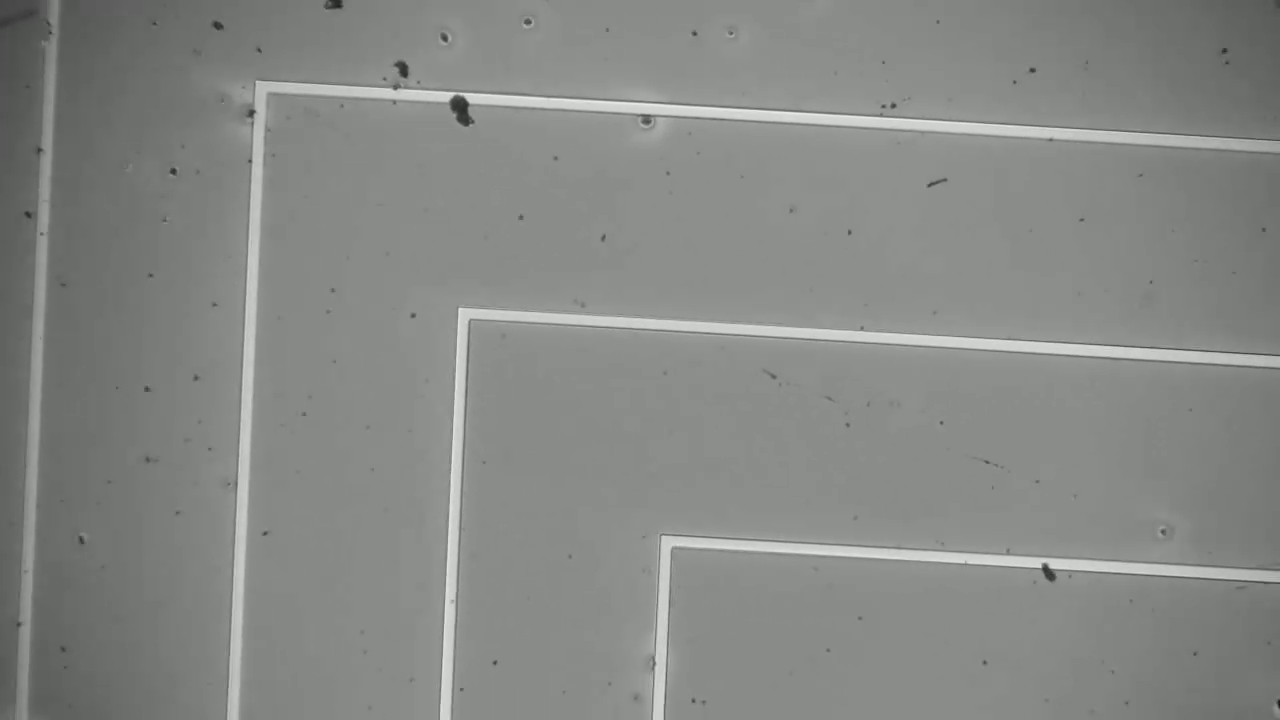edge_bite: (29, 6, 74, 50)
stains_enbedded: (441, 84, 481, 135), (1030, 548, 1061, 587), (242, 101, 275, 132)
